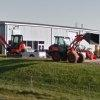Tractor: (43, 33, 100, 67)
